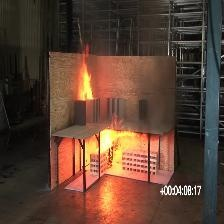fire: (86, 117, 139, 173), (66, 43, 107, 108)
